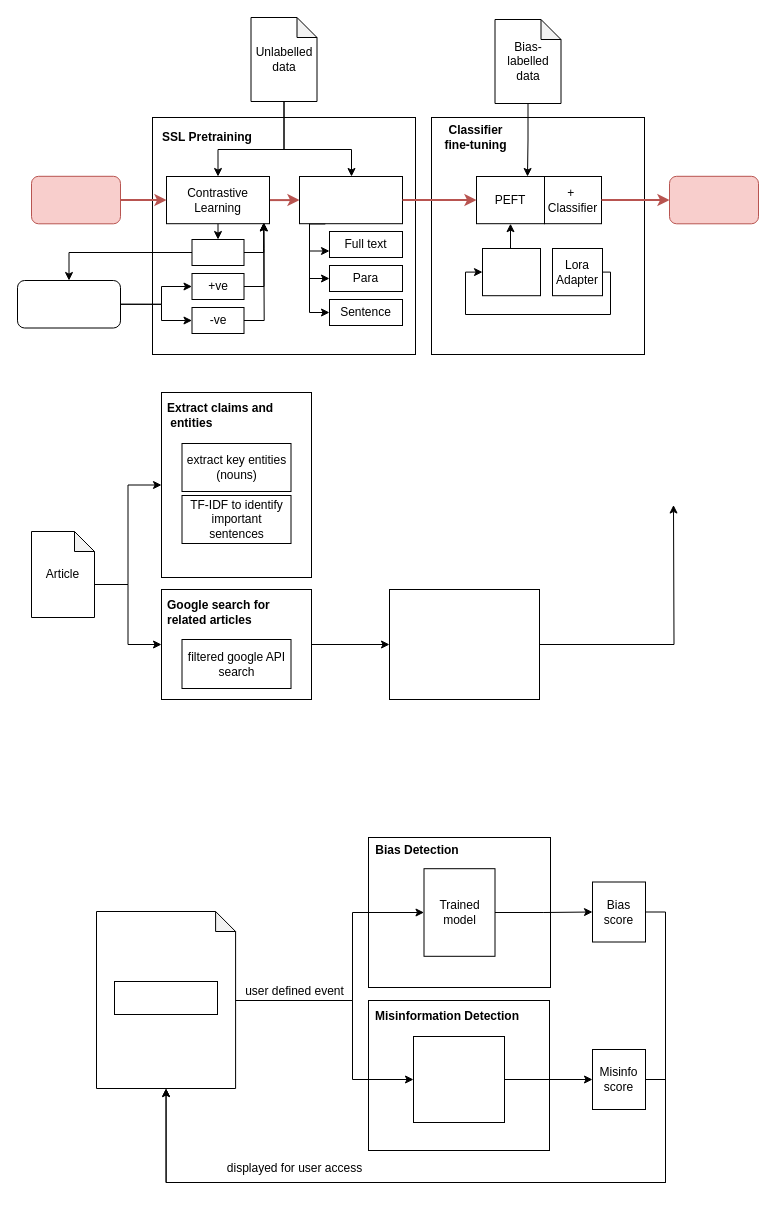
Some shapes in this 776 by 1208 pixel diagram are drawn without their labels. Here are the shapes that lost their labels. From the top down, the centre of each, then its label:
At point (75, 199): "Llama 1.0B (backbone)".
At point (350, 200): "Scale Invariance".
At point (713, 199): "Bias model".
At point (217, 252): "Sample".
At point (511, 272): "Attention Head".
At point (68, 304): "LLM".
At point (464, 644): "Store related articles in VectorDB for FAISS".
At point (166, 997): "Highlighted Text".
At point (458, 1079): "Misinformation pipeline".
